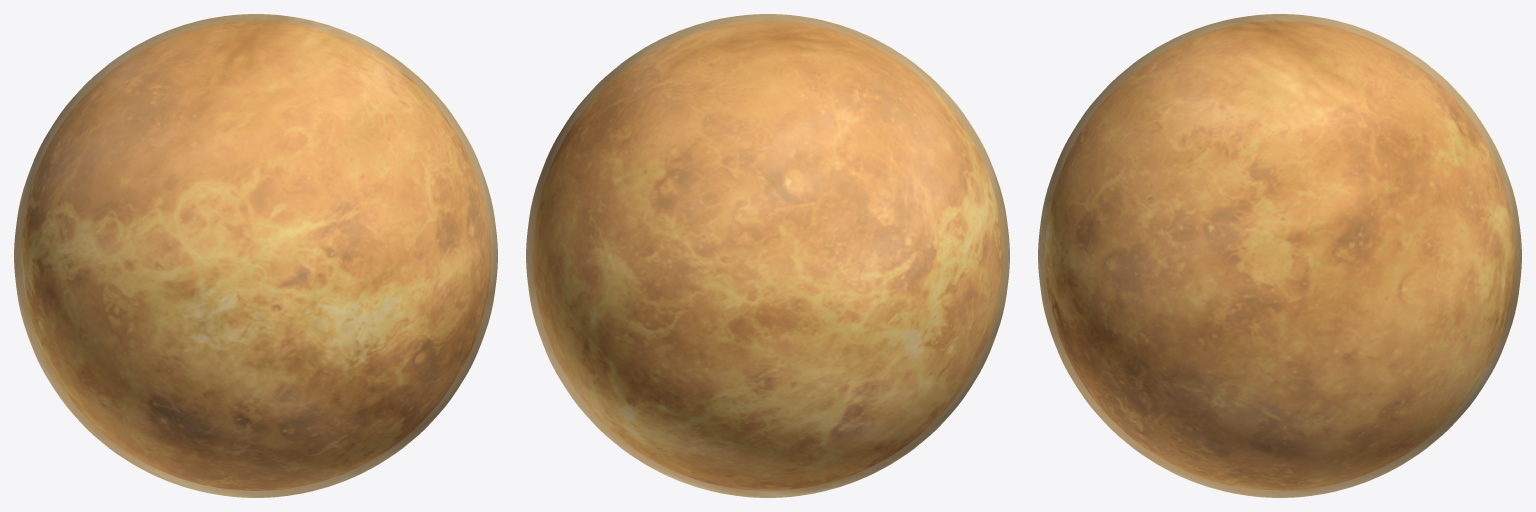
File: sm_venus.glb
The picture shows the model from 3 angles, left to right: view 1: azimuth 30°, elevation 25°; view 2: azimuth 150°, elevation 25°; view 3: azimuth 270°, elevation 25°; orthographic projection.
Parts seen in each view (by area): view 1: atmosphere, venus; view 2: atmosphere, venus; view 3: atmosphere, venus.
Part boxes in pixels (x1,y1,x2,y2): atmosphere: (14, 14, 497, 497); venus: (21, 21, 490, 490); atmosphere: (526, 14, 1009, 497); venus: (533, 21, 1002, 490); atmosphere: (1038, 14, 1521, 497); venus: (1045, 21, 1514, 490).
Bounding box in the file's own units: 26.73 × 26.74 × 26.73.
Materials: 2 (2 with a texture image).
